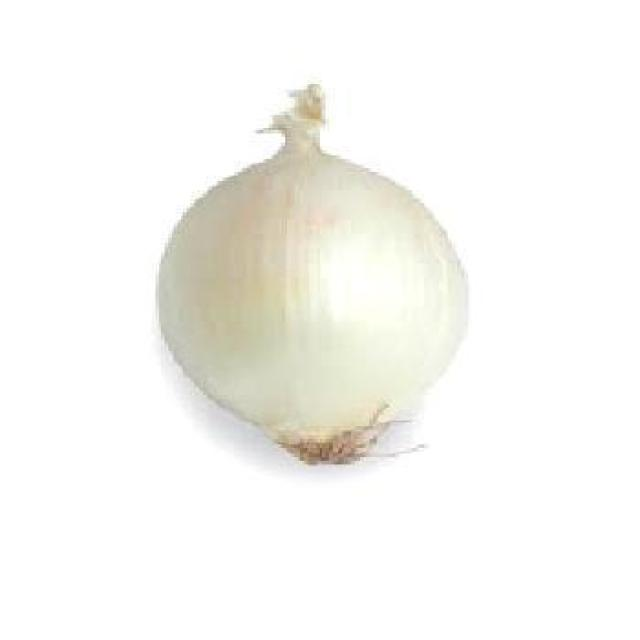Onion: (157, 84, 468, 466)
